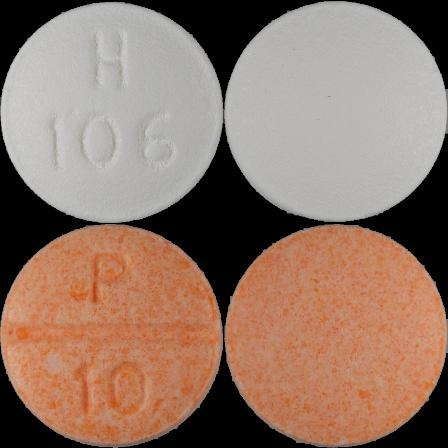23155-106: (0, 0, 224, 224)
